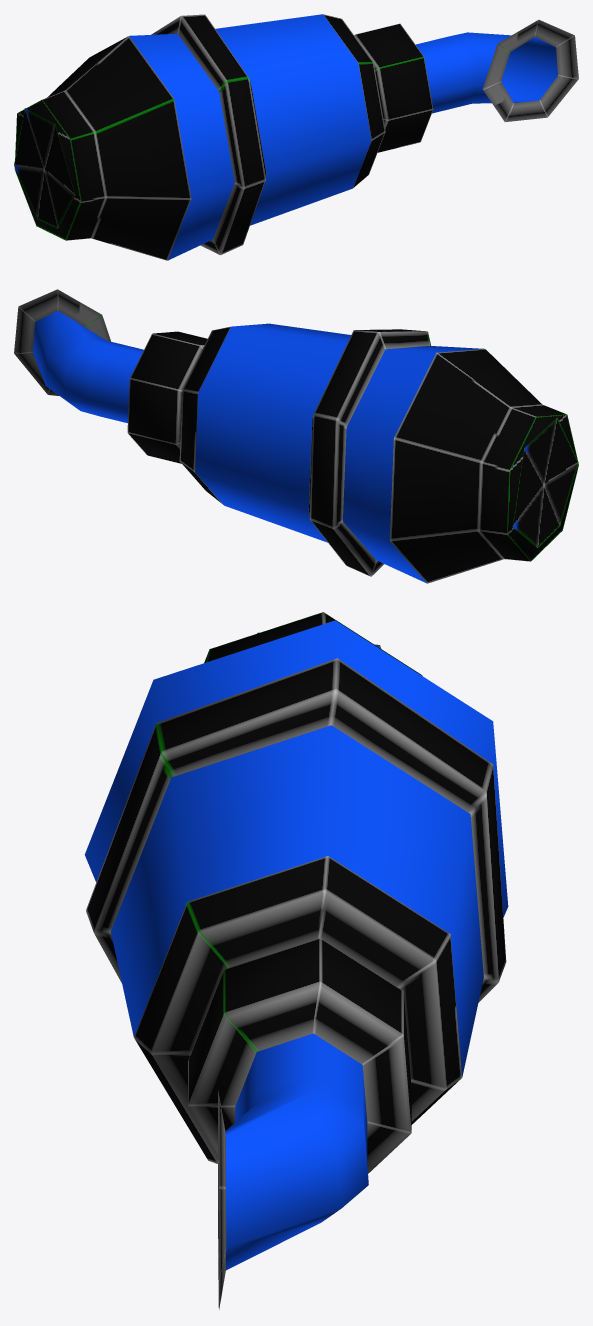
The model's file is c_karen_rope_arm.FBX.
3 views of the same model, one above another, from view 1: azimuth 30°, elevation 25°; view 2: azimuth 150°, elevation 25°; view 3: azimuth 270°, elevation 25° (orthographic). The views are drawn at different scales.
Parts seen in each view (by area): view 1: c_karen_arm; view 2: c_karen_arm; view 3: c_karen_arm.
Part boxes in pixels (bbox=[...]): c_karen_arm: bbox=[14, 14, 578, 260]; c_karen_arm: bbox=[14, 289, 578, 583]; c_karen_arm: bbox=[84, 612, 508, 1309].
Bounding box in the file's own units: 47.08 × 16.8 × 19.43.
